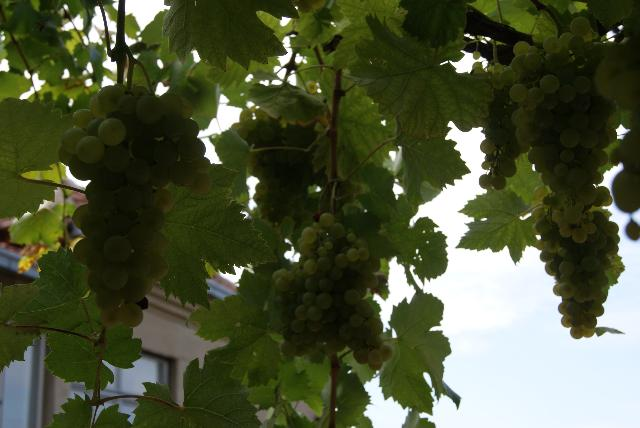grapes: (60, 82, 212, 328), (515, 18, 619, 339), (271, 212, 369, 356), (479, 41, 530, 190)
